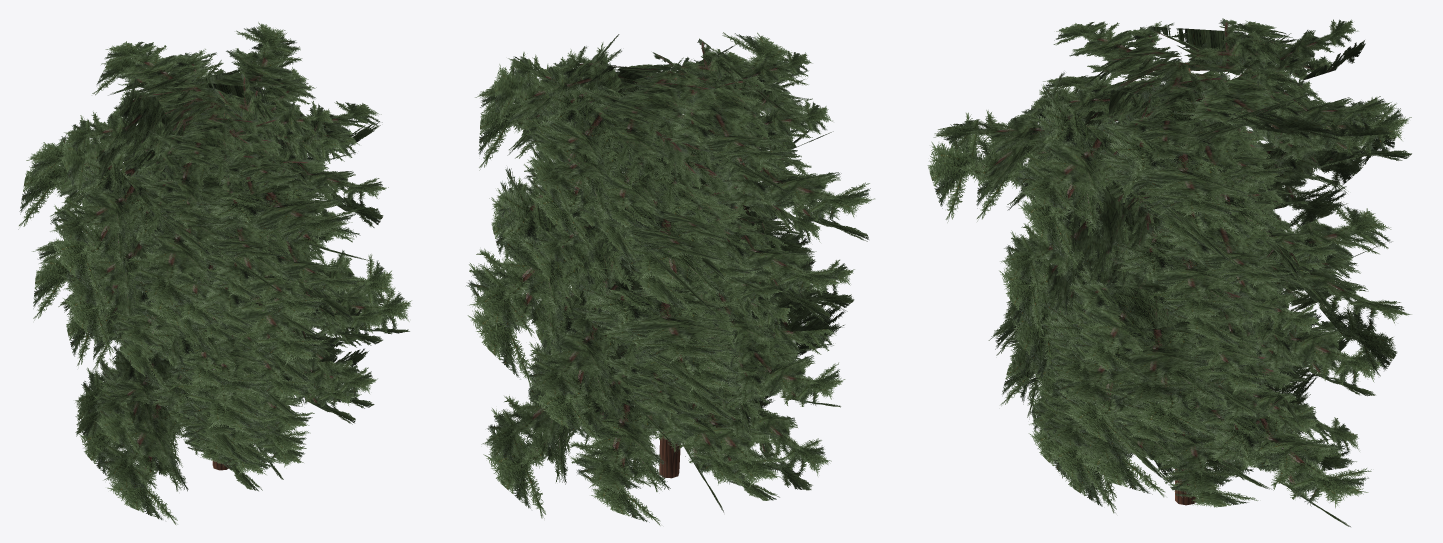
File: PineTree.fbx
3 views of the same model, side by side, from view 1: azimuth 30°, elevation 25°; view 2: azimuth 150°, elevation 25°; view 3: azimuth 270°, elevation 25° (orthographic). The views are drawn at different scales.
Visible parts, largest first — view 1: PineTree2LOD1, PineTree2LOD3, PineTree2LOD2; view 2: PineTree2LOD3, PineTree2LOD1, PineTree2LOD2; view 3: PineTree2LOD3, PineTree2LOD1, PineTree2LOD2.
Part boxes in pixels (x1,y1,x2,y2): PineTree2LOD1: (26, 22, 411, 493); PineTree2LOD3: (18, 33, 409, 524); PineTree2LOD2: (31, 25, 408, 491); PineTree2LOD3: (467, 34, 868, 525); PineTree2LOD1: (466, 32, 874, 495); PineTree2LOD2: (469, 35, 870, 491); PineTree2LOD3: (927, 18, 1411, 526); PineTree2LOD1: (933, 19, 1411, 508); PineTree2LOD2: (941, 20, 1406, 504).
Size of the model in its own units: 698 by 771 by 729.
